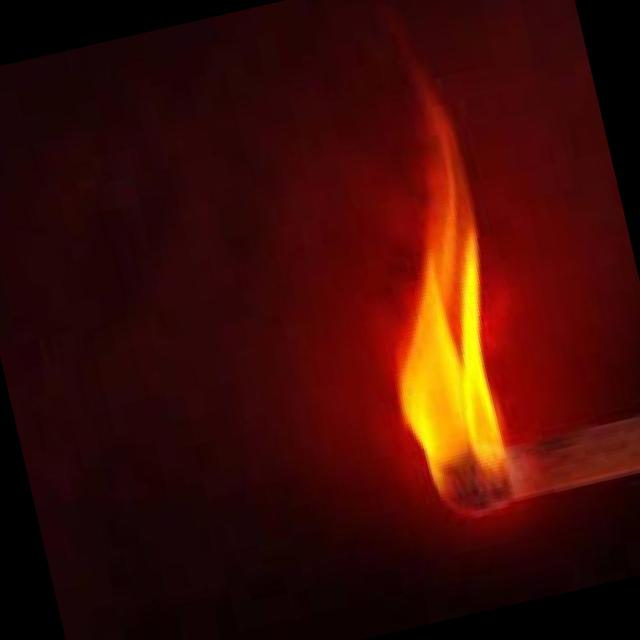Fire: (344, 160, 544, 536)
